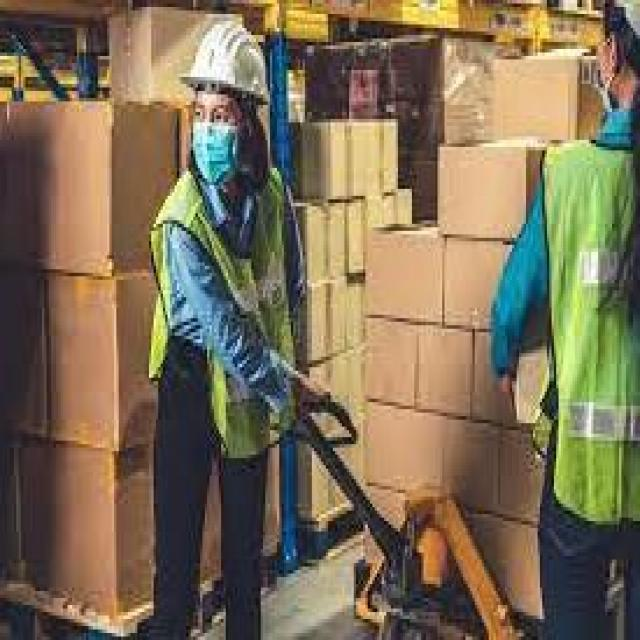Reflective-Jacket: (516, 122, 640, 548), (133, 161, 312, 444)
Safety-Helmet: (175, 14, 279, 119)
